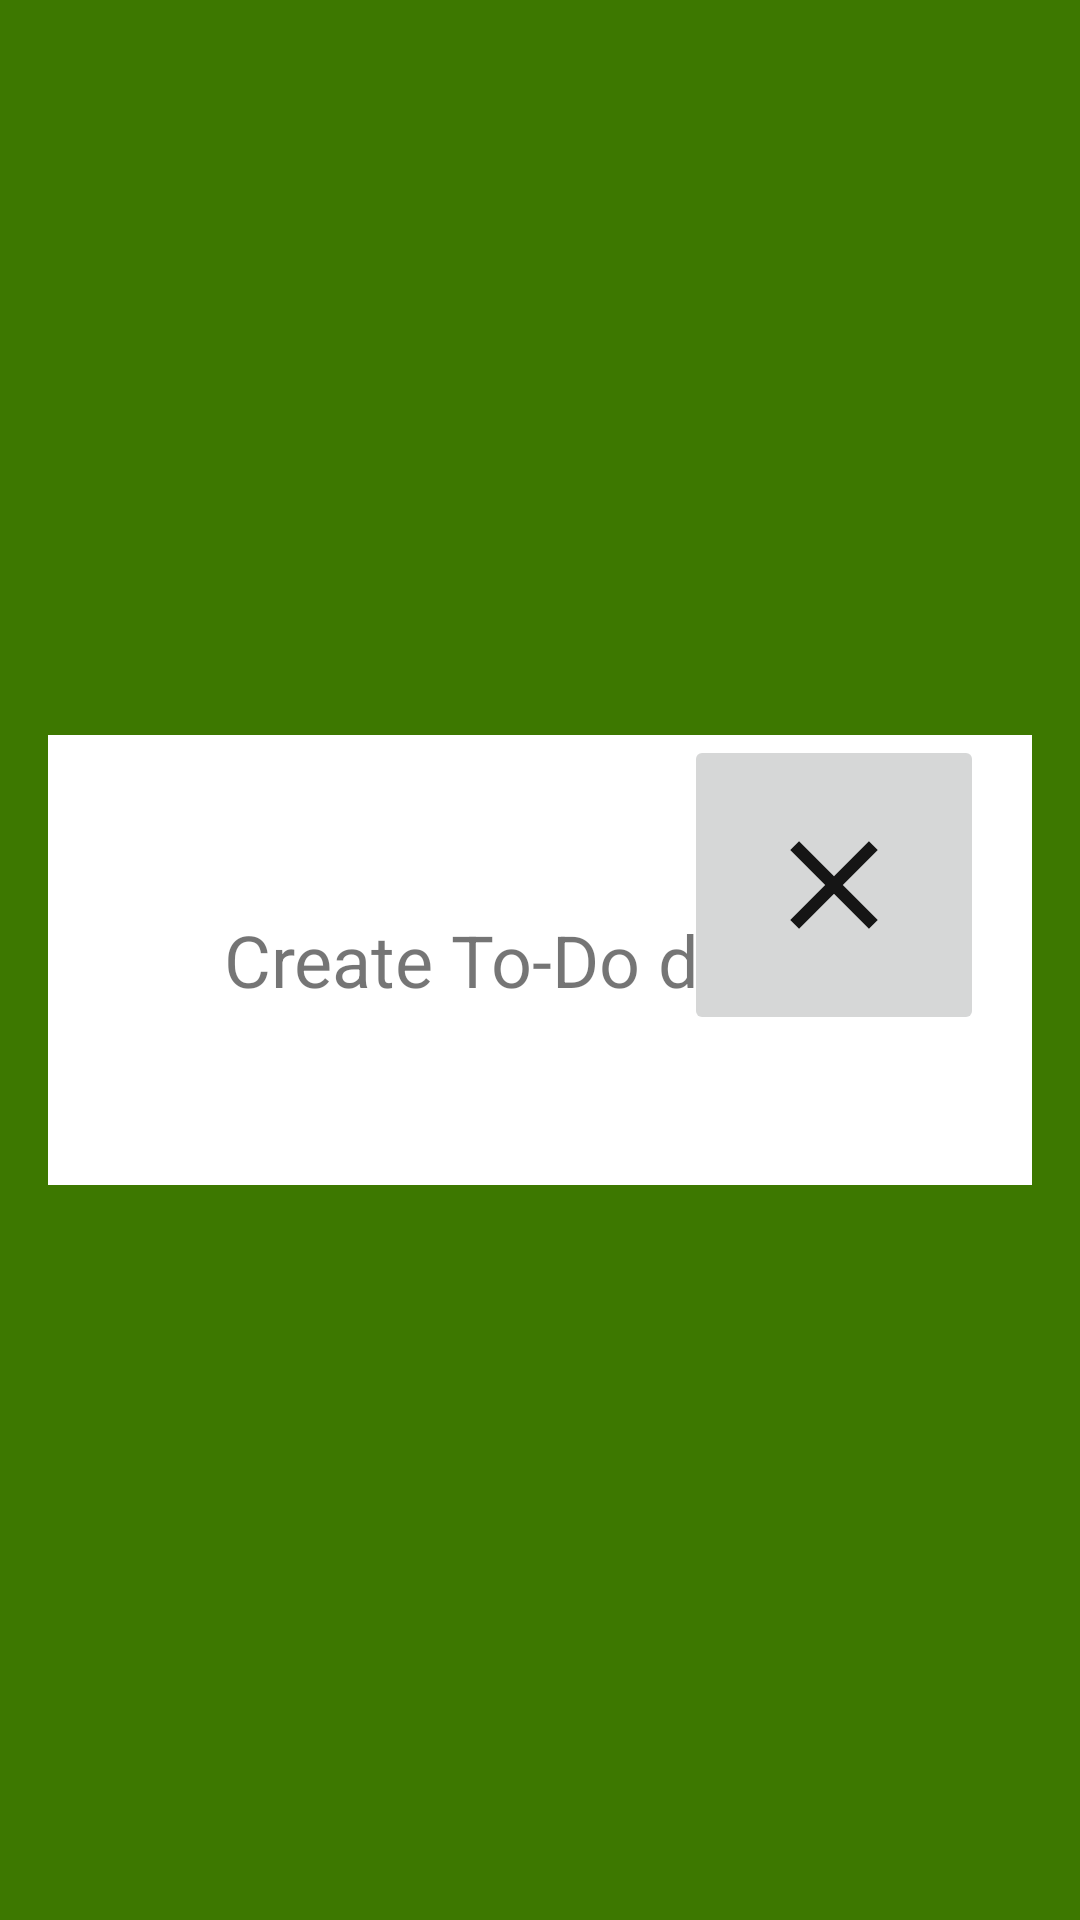

Locate icon controls on the screen. Image size 1080px x 1920px, boxes as (x1, y1, x2, y2).
close: (696, 753, 972, 1017)
